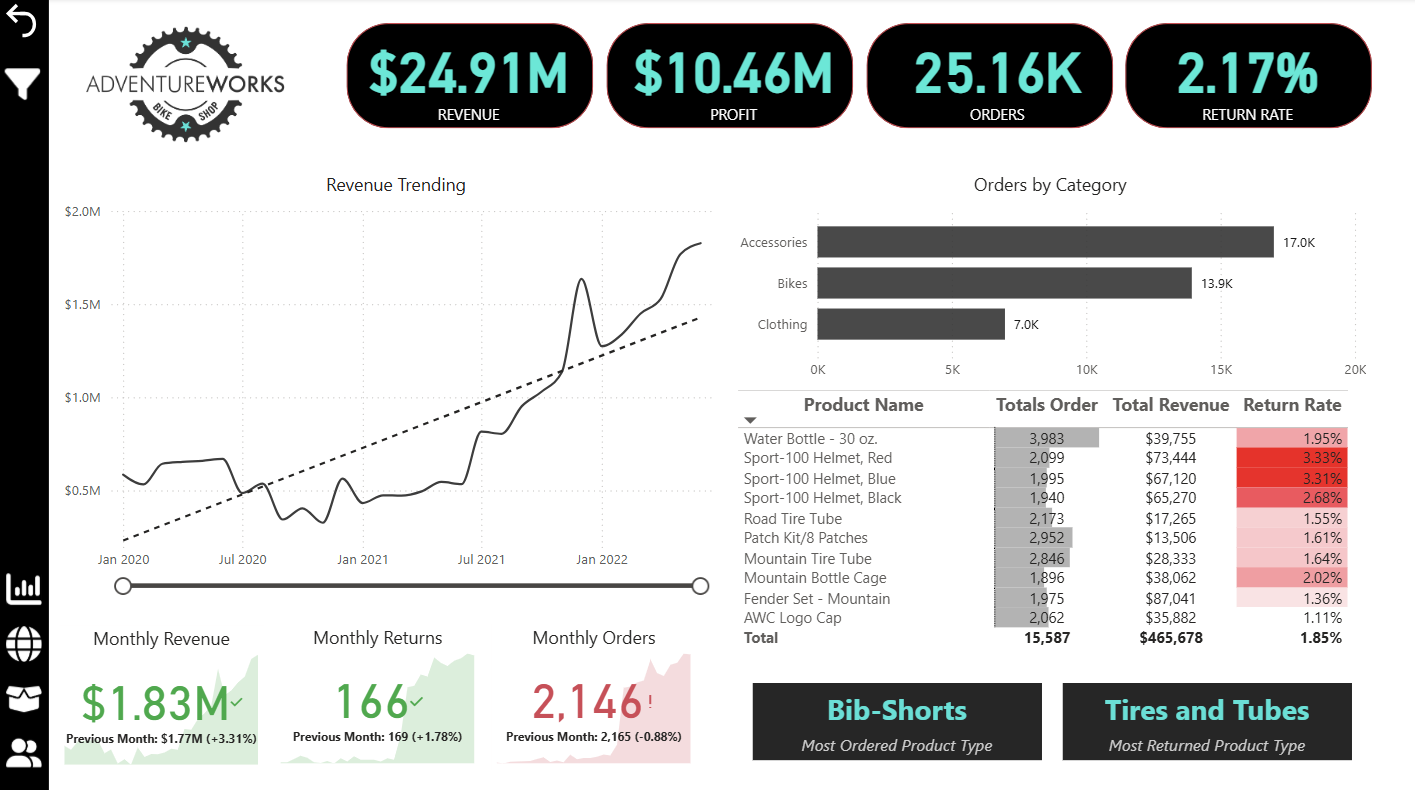

The page's visual inventory and layout, read from the dashboard file:
{"tool":"powerbi","page":{"name":"Exc Dashboard","canvas":[1280,720],"ordinal":0},"visuals":[{"type":"card","fields":{"Values":["Measure Table.Total Revenue"]},"box":[288.5,-0.4,270.2,140.6],"z":0,"group":"g2"},{"type":"image","title":"AW logo","box":[53.8,0,228.7,156.5],"z":0},{"type":"shape","box":[313,22.8,222.5,95],"z":0,"group":"g1"},{"type":"actionButton","box":[0.3,512.4,45.2,40.4],"z":0,"group":"g3"},{"type":"card","fields":{"Values":["Measure Table.Total Profit"]},"box":[527,-0.4,270.2,140.6],"z":1000,"group":"g2"},{"type":"shape","title":"Left Navigator","box":[0,0,45,720.2],"z":1000},{"type":"shape","box":[547.2,22.8,222.5,95],"z":1000,"group":"g1"},{"type":"actionButton","box":[0.3,561.7,45.2,40.4],"z":1000,"group":"g3"},{"type":"card","fields":{"Values":["Measure Table.Totals Order"]},"box":[765.4,-0.4,270.2,140.6],"z":2000,"group":"g2"},{"type":"group","id":"g1","title":"Background KPI","box":[313,22.8,925,95],"z":2000},{"type":"shape","box":[781.3,22.8,222.5,95],"z":2000,"group":"g1"},{"type":"actionButton","box":[0.3,611,45.2,40.4],"z":2000,"group":"g3"},{"type":"group","id":"g2","title":"Group 1","box":[288.5,-0.4,960.8,140.6],"z":3000},{"type":"card","fields":{"Values":["Measure Table.Return Rate"]},"box":[1003.6,-0.4,245.8,140.6],"z":3000,"group":"g2"},{"type":"shape","box":[1015.5,22.8,222.5,95],"z":3000,"group":"g1"},{"type":"actionButton","box":[0.3,660.4,45.2,40.4],"z":3000,"group":"g3"},{"type":"lineChart","title":"Revenue Trending","fields":{"Y":["Measure Table.Total Revenue"],"Category":["Calendar Lookup.Data Hierarchie.Start of Year","Calendar Lookup.Data Hierarchie.Start of Month","Calendar Lookup.Data Hierarchie.Start of Week","Calendar Lookup.Data Hierarchie.Date"]},"box":[53.8,156.5,607.7,384],"z":4000},{"type":"kpi","title":"Monthly Revenue","fields":{"Indicator":["Measure Table.Total Revenue"],"TrendLine":["Calendar Lookup.Start of Month"],"Goal":["Measure Table.Previous Month Revenue"]},"box":[53.8,566.2,184.6,130.8],"z":5000},{"type":"kpi","title":"Monthly Returns","fields":{"TrendLine":["Calendar Lookup.Start of Month"],"Indicator":["Measure Table.Total Return"],"Goal":["Measure Table.Previous Month Returns"]},"box":[248.8,564.9,184.6,130.8],"z":6000},{"type":"kpi","title":"Monthly Orders","fields":{"TrendLine":["Calendar Lookup.Start of Month"],"Goal":["Measure Table.Previous Month Orders"],"Indicator":["Measure Table.Totals Order"]},"box":[443.9,564.9,184.6,130.8],"z":7000},{"type":"clusteredBarChart","title":"Orders by Category","fields":{"Category":["Product Category Lookup.CategoryName"],"Y":["Measure Table.Totals Order"]},"box":[657.9,156.5,579.6,192],"z":8000},{"type":"pivotTable","fields":{"Rows":["Product Lookup.ProductName"],"Values":["Measure Table.Totals Order","Measure Table.Total Revenue","Measure Table.Return Rate"]},"box":[661.6,348.5,576,244.6],"z":9000},{"type":"card","fields":{"Values":["Min(Product Subcategory Lookup.SubcategoryName)"]},"box":[679.9,617.5,260.5,69.7],"z":10000},{"type":"card","fields":{"Values":["Min(Product Subcategory Lookup.SubcategoryName)"]},"box":[958.7,617.5,260.5,69.7],"z":11000},{"type":"actionButton","box":[0,0,41.6,40.4],"z":12000},{"type":"group","id":"g3","title":"Button Navigator","box":[0.3,512.4,45.2,188.3],"z":13000},{"type":"actionButton","box":[1.2,57.5,41.6,40.4],"z":14000}]}

Visuals, with their boxes on the page's 1280x720 design canvas (x1, y1, x2, y2). These are canvas units, not pixel positions in the 1415x790 screenshot, which may show the page scaled, cropped or inside an application window:
card - Measure Table.Total Revenue: pyautogui.locateOnScreen(288, 0, 559, 140)
"AW logo" image: pyautogui.locateOnScreen(54, 0, 282, 156)
shape: pyautogui.locateOnScreen(313, 23, 536, 118)
actionButton: pyautogui.locateOnScreen(0, 512, 46, 553)
card - Measure Table.Total Profit: pyautogui.locateOnScreen(527, 0, 797, 140)
"Left Navigator" shape: pyautogui.locateOnScreen(0, 0, 45, 720)
shape: pyautogui.locateOnScreen(547, 23, 770, 118)
actionButton: pyautogui.locateOnScreen(0, 562, 46, 602)
card - Measure Table.Totals Order: pyautogui.locateOnScreen(765, 0, 1036, 140)
"Background KPI" group: pyautogui.locateOnScreen(313, 23, 1238, 118)
shape: pyautogui.locateOnScreen(781, 23, 1004, 118)
actionButton: pyautogui.locateOnScreen(0, 611, 46, 651)
"Group 1" group: pyautogui.locateOnScreen(288, 0, 1249, 140)
card - Measure Table.Return Rate: pyautogui.locateOnScreen(1004, 0, 1249, 140)
shape: pyautogui.locateOnScreen(1016, 23, 1238, 118)
actionButton: pyautogui.locateOnScreen(0, 660, 46, 701)
"Revenue Trending" lineChart: pyautogui.locateOnScreen(54, 156, 662, 540)
"Monthly Revenue" kpi: pyautogui.locateOnScreen(54, 566, 238, 697)
"Monthly Returns" kpi: pyautogui.locateOnScreen(249, 565, 433, 696)
"Monthly Orders" kpi: pyautogui.locateOnScreen(444, 565, 628, 696)
"Orders by Category" clusteredBarChart: pyautogui.locateOnScreen(658, 156, 1238, 348)
pivotTable - Product Lookup.ProductName x Measure Table.Totals Order: pyautogui.locateOnScreen(662, 348, 1238, 593)
card - Min(Product Subcategory Lookup.SubcategoryName): pyautogui.locateOnScreen(680, 618, 940, 687)
card - Min(Product Subcategory Lookup.SubcategoryName): pyautogui.locateOnScreen(959, 618, 1219, 687)
actionButton: pyautogui.locateOnScreen(0, 0, 42, 40)
"Button Navigator" group: pyautogui.locateOnScreen(0, 512, 46, 701)
actionButton: pyautogui.locateOnScreen(1, 58, 43, 98)
